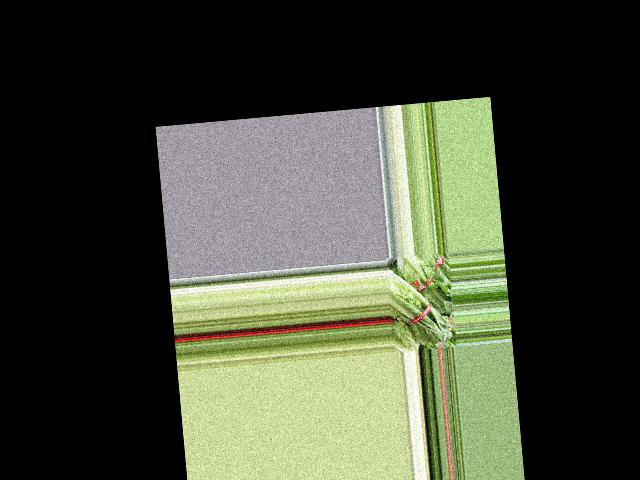lettuce: (386, 265, 453, 348)
